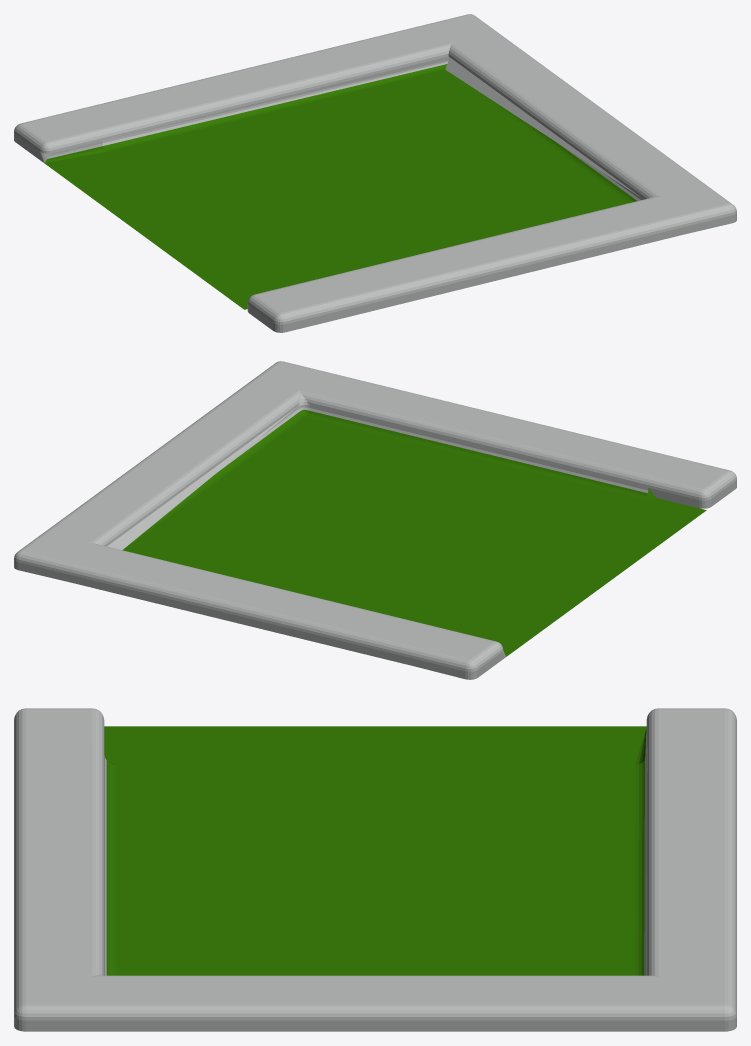
Rendered from End_grass.fbx.
3 renders of one model, top to bottom at view 1: azimuth 30°, elevation 25°; view 2: azimuth 150°, elevation 25°; view 3: azimuth 270°, elevation 25°, orthographic. The views are drawn at different scales.
Parts seen in each view (by area): view 1: Plan.008; view 2: Plan.008; view 3: Plan.008.
Part boxes in pixels (<box>): Plan.008: <box>14,14,736,332</box>; Plan.008: <box>14,361,736,679</box>; Plan.008: <box>14,708,736,1031</box>.
Bounding box in the file's own units: 800 × 26.78 × 800.
